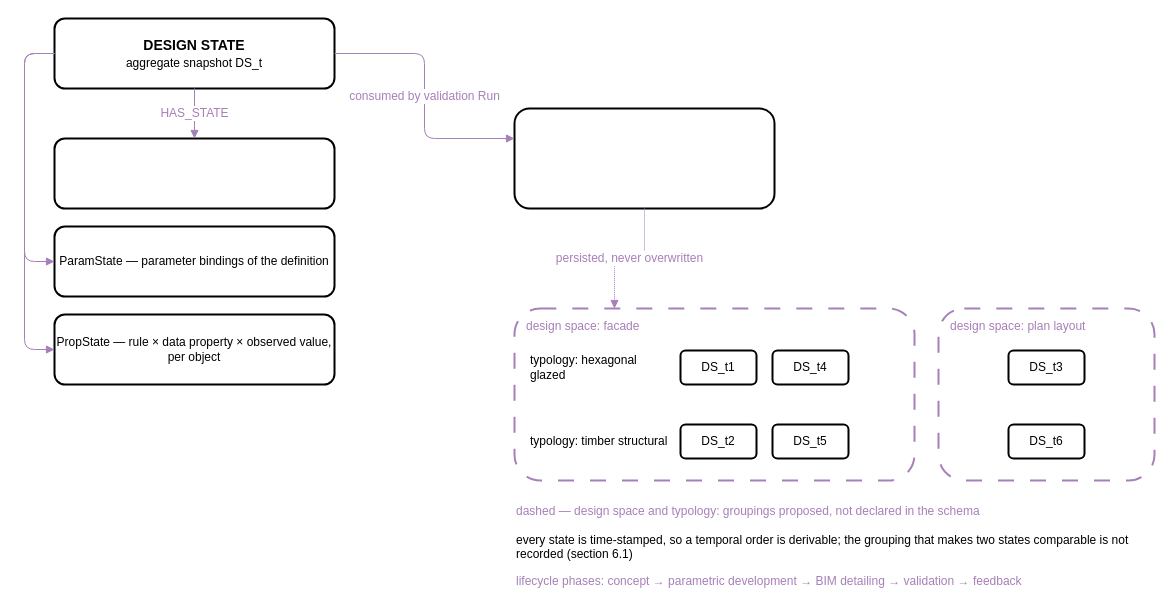
Image size: 1173x609. Some labels were removed from this diagram. The centre of each missing label's shape, as x and y in pixels:
ObjState — object + geometry reference + label: point 194,173
RUN ValidStatus — one Boolean per ObjState SendStatus — publish flag: point 644,158
